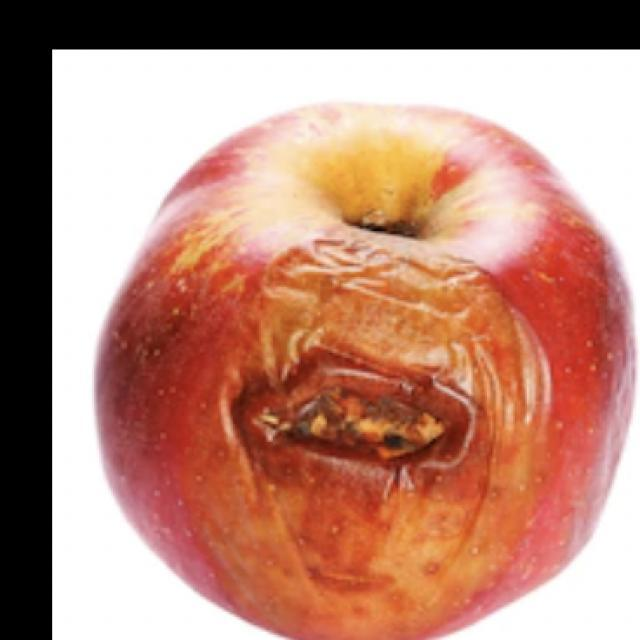Rotten: (92, 96, 640, 640)
